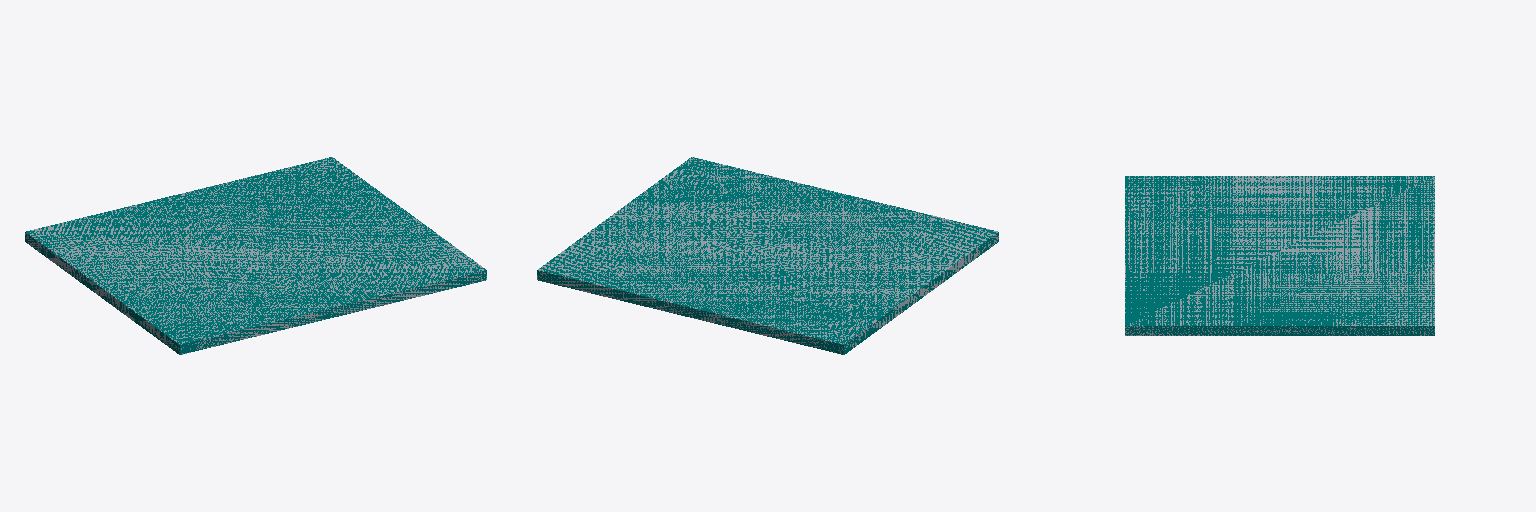
The model's file is sandstone_green.obj.
3 views of the same model, side by side, from view 1: azimuth 30°, elevation 25°; view 2: azimuth 150°, elevation 25°; view 3: azimuth 270°, elevation 25° (orthographic).
Parts seen in each view (by area): view 1: Mesh1 Group1 Model; view 2: Mesh1 Group1 Model; view 3: Mesh1 Group1 Model.
Part boxes in pixels (x1,y1,x2,y2): Mesh1 Group1 Model: (25, 157, 486, 354); Mesh1 Group1 Model: (537, 157, 998, 354); Mesh1 Group1 Model: (1125, 176, 1434, 335).
Size of the model in its own units: 3780 by 119 by 3300.